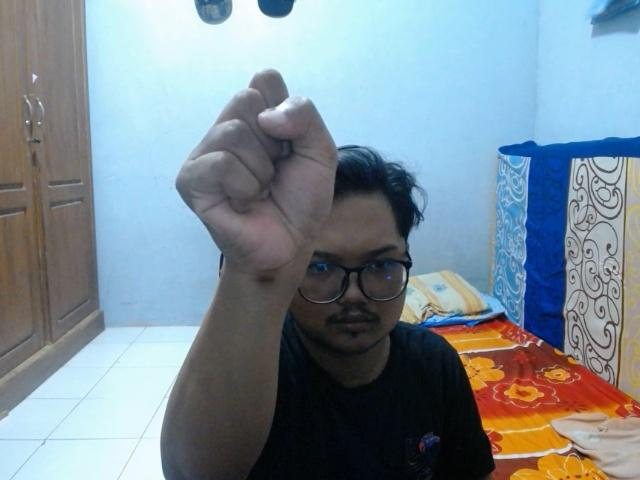Grab: (166, 60, 347, 289)
